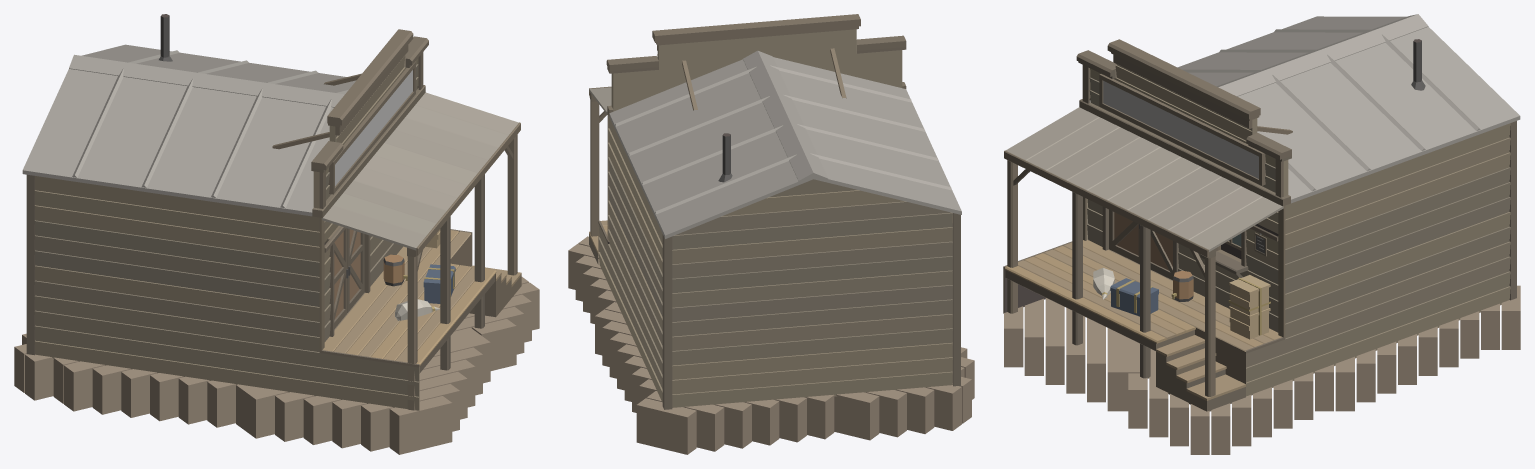
Rendered from house_5.glb.
The picture shows the model from 3 angles, left to right: view 1: azimuth 30°, elevation 25°; view 2: azimuth 150°, elevation 25°; view 3: azimuth 270°, elevation 25°; orthographic projection. The views are drawn at different scales.
Visible parts, largest first — view 1: house_5; view 2: house_5; view 3: house_5.
Part boxes in pixels (<box>): house_5: <box>14,14,539,454</box>; house_5: <box>568,14,974,454</box>; house_5: <box>1003,14,1520,454</box>.
Size of the model in its own units: 12.48 by 7.88 by 12.48.
